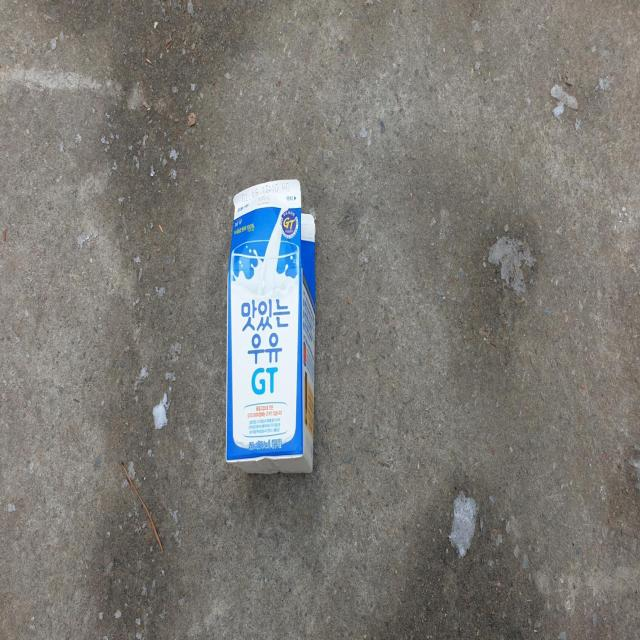paperpack: (226, 179, 315, 473)
